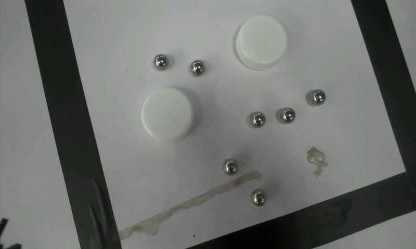ironball: (278, 106, 295, 123), (308, 88, 325, 105), (250, 188, 266, 206), (222, 158, 238, 175), (249, 110, 265, 127), (152, 53, 167, 70), (189, 59, 204, 76)
